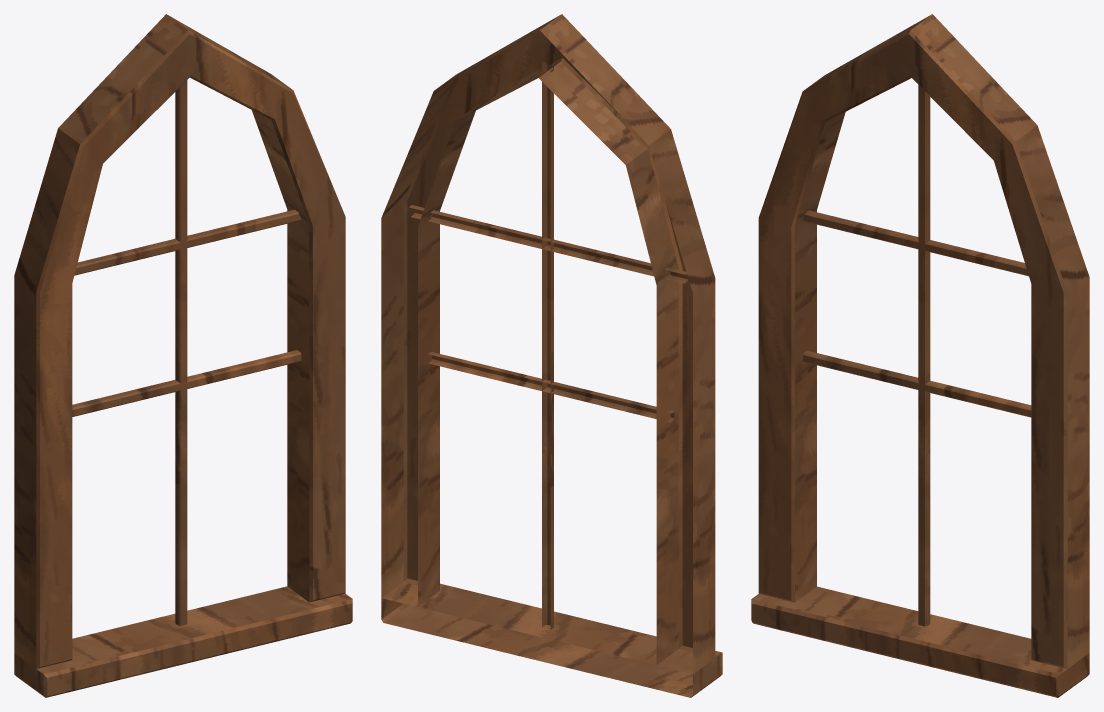
The model's file is Fenetre.FBX.
3 views of the same model, side by side, from view 1: azimuth 30°, elevation 25°; view 2: azimuth 150°, elevation 25°; view 3: azimuth 330°, elevation 25° (orthographic).
Visible parts, largest first — view 1: Fenetre; view 2: Fenetre; view 3: Fenetre.
Part boxes in pixels (bbox=[...]): Fenetre: bbox=[14, 14, 352, 697]; Fenetre: bbox=[381, 14, 722, 697]; Fenetre: bbox=[751, 14, 1089, 697].
Size of the model in its own units: 84.79 by 164 by 14.71.
